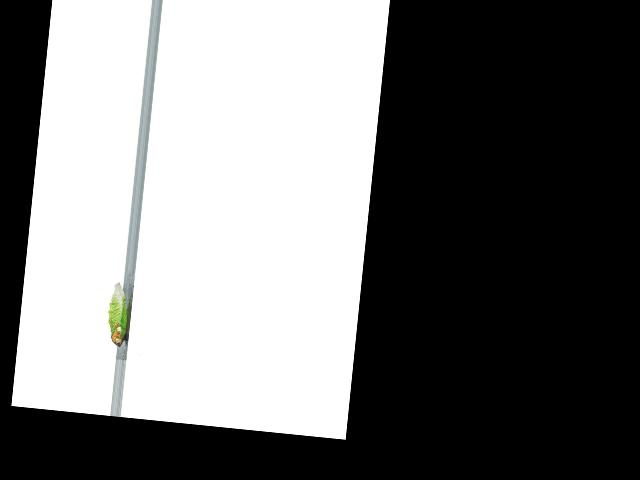lettuce: (102, 280, 134, 350)
